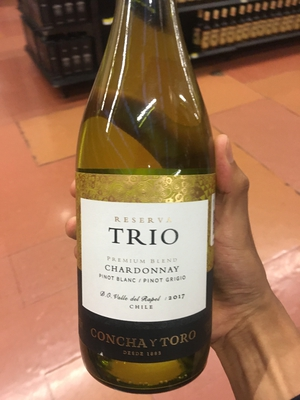trio chardonnay: (76, 16, 224, 383)
